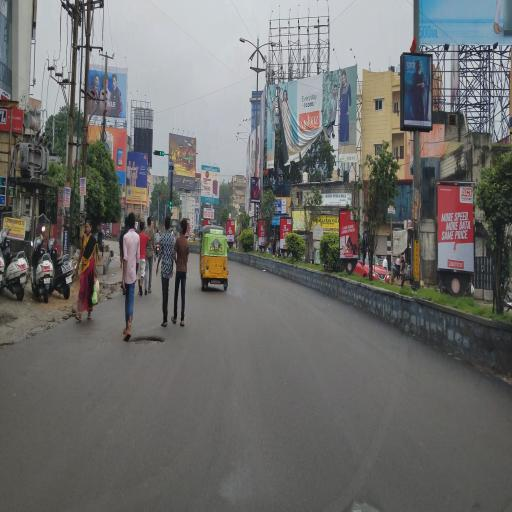street_light_0: (254, 33, 280, 69), (234, 28, 260, 64)
